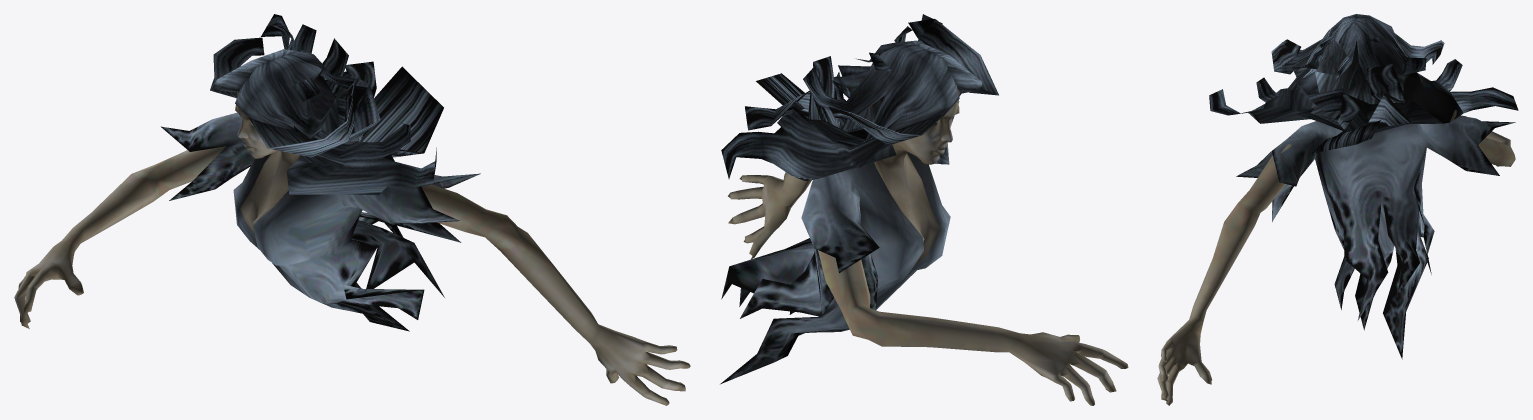
Rendered from ghost.obj.
3 renders of one model, left to right at view 1: azimuth 30°, elevation 25°; view 2: azimuth 150°, elevation 25°; view 3: azimuth 270°, elevation 25°, orthographic. The views are drawn at different scales.
Visible parts, largest first — view 1: Ghost; view 2: Ghost; view 3: Ghost.
Part boxes in pixels (left/top/right/bottom): Ghost: left=14, top=14, right=690, bottom=405; Ghost: left=720, top=14, right=1128, bottom=405; Ghost: left=1157, top=14, right=1518, bottom=405.
Bounding box in the file's own units: 351 × 216 × 255.
1 material, 1 textured.
